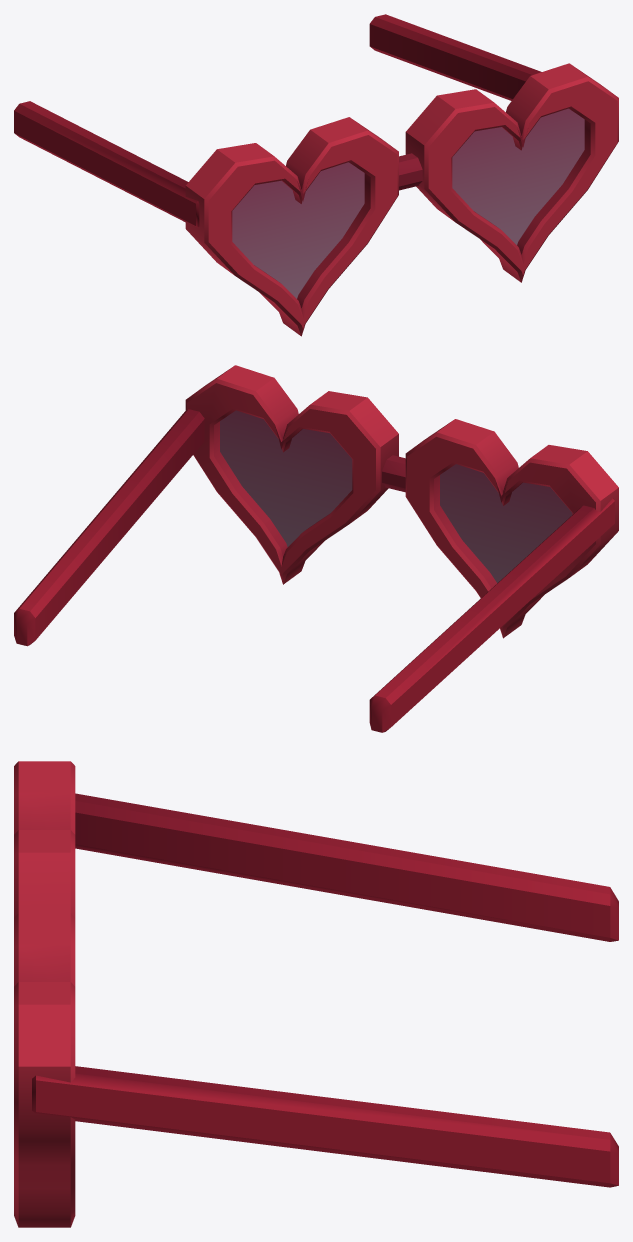
Rendered from heartglasses.glb.
3 renders of one model, top to bottom at view 1: azimuth 30°, elevation 25°; view 2: azimuth 150°, elevation 25°; view 3: azimuth 270°, elevation 25°, orthographic. The views are drawn at different scales.
Parts seen in each view (by area): view 1: heartglasses; view 2: heartglasses; view 3: heartglasses.
Boxes of the visible parts, box(x1,y1,x2,y2) form: heartglasses: box(14, 14, 618, 336); heartglasses: box(14, 365, 618, 732); heartglasses: box(14, 761, 618, 1227).
Bounding box in the file's own units: 0.1562 × 0.0677 × 0.138.
